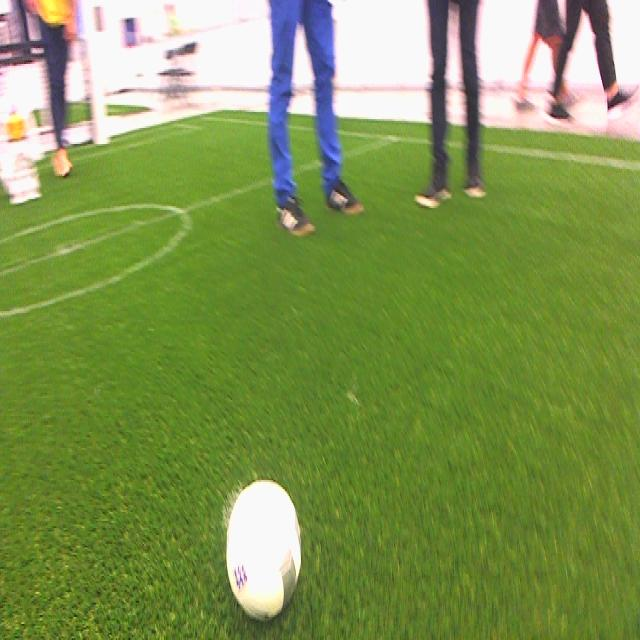ball: (223, 476, 304, 618)
goalpost: (76, 9, 110, 147)
